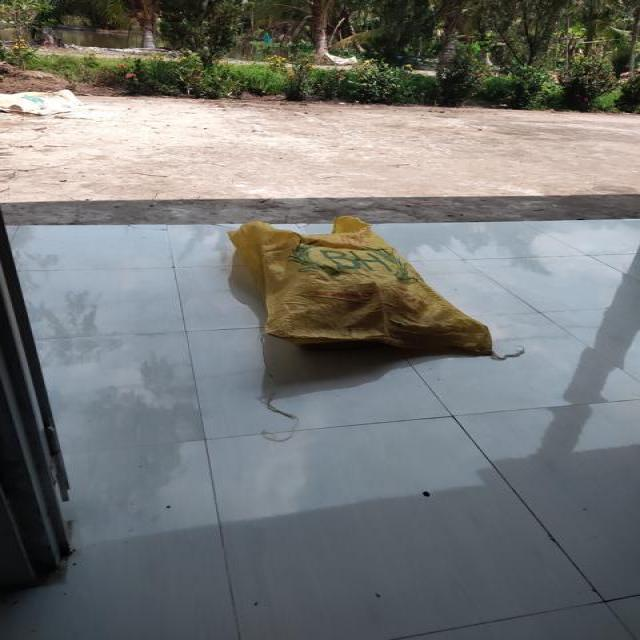gunny_bag: (229, 218, 492, 354)
